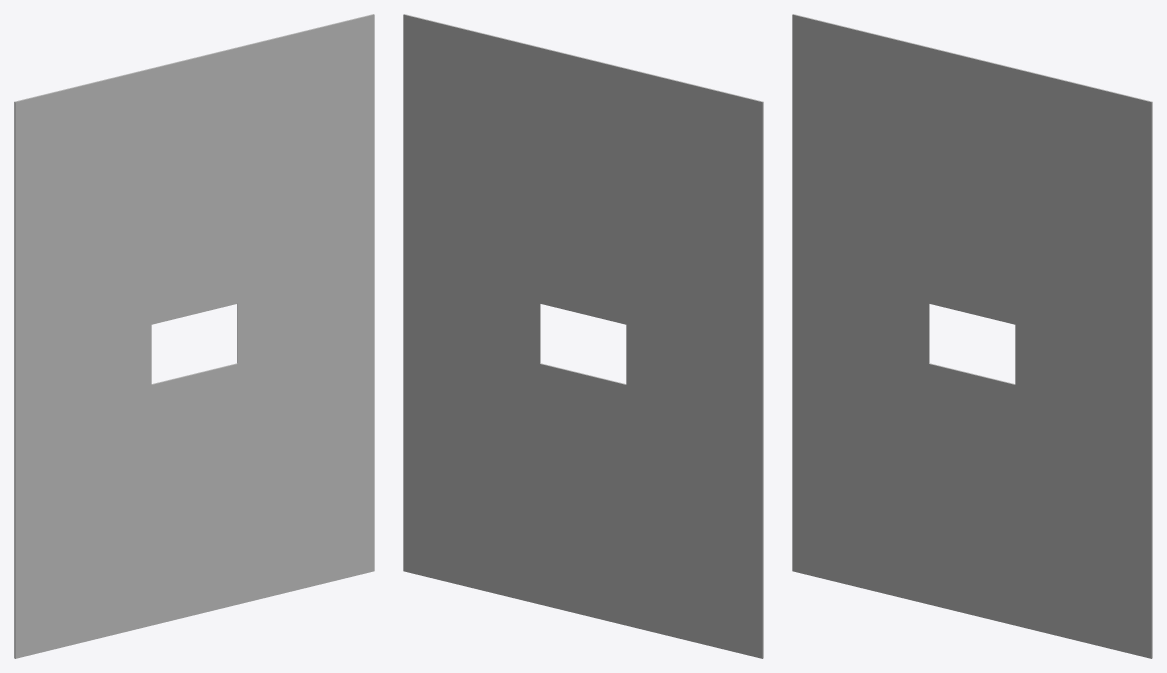
File: Barrier.gltf
The picture shows the model from 3 angles, left to right: view 1: azimuth 30°, elevation 25°; view 2: azimuth 150°, elevation 25°; view 3: azimuth 330°, elevation 25°; orthographic projection.
Parts seen in each view (by area): view 1: Barrier; view 2: Barrier; view 3: Barrier.
Part boxes in pixels (x1,y1,x2,y2): Barrier: [14, 14, 374, 658]; Barrier: [403, 14, 763, 658]; Barrier: [792, 14, 1152, 658].
Size of the model in its own units: 250 by 370 by 1.
Materials: 1 (1 with a texture image).
